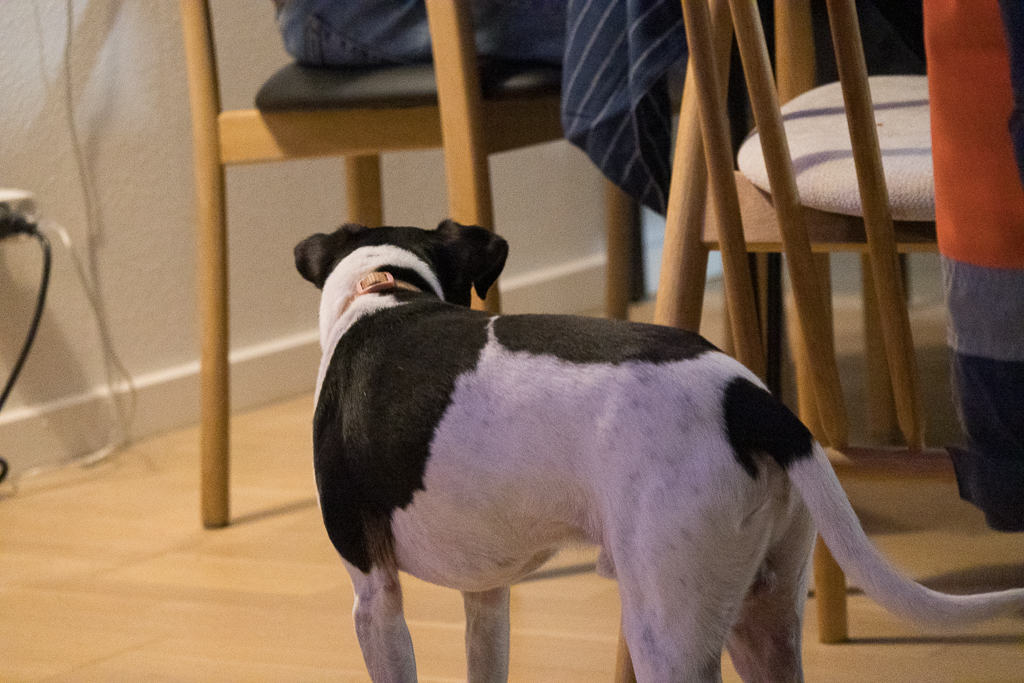Dog: (283, 212, 1024, 683)
Humanoid: (266, 0, 586, 96)
